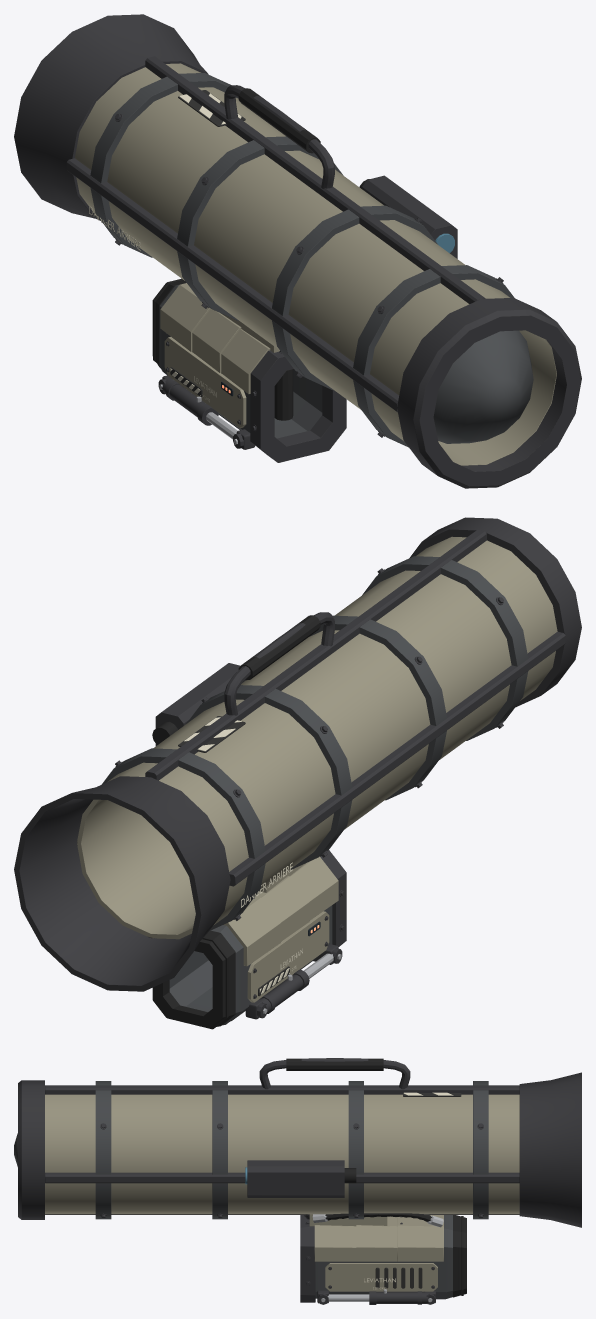
File: leviathan.glb
3 renders of one model, top to bottom at view 1: azimuth 30°, elevation 25°; view 2: azimuth 150°, elevation 25°; view 3: azimuth 270°, elevation 25°, orthographic. The views are drawn at different scales.
Parts seen in each view (by area): view 1: Body; view 2: Body; view 3: Body.
Part boxes in pixels (x1,y1,x2,y2): Body: (14, 14, 581, 488); Body: (14, 517, 581, 1029); Body: (14, 1058, 581, 1304).
Size of the model in its own units: 0.4499 by 0.6733 by 1.46.
